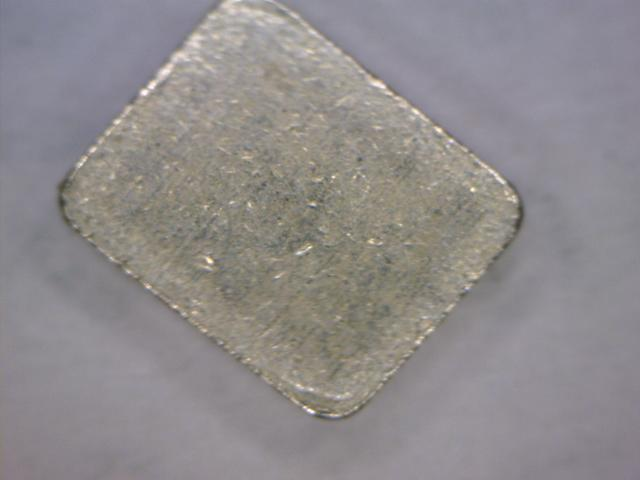ok: (34, 6, 534, 430)
